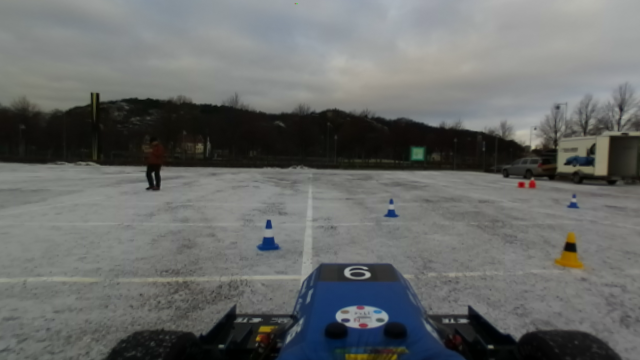blue: (255, 216, 281, 253), (383, 198, 399, 220)
yellow: (552, 231, 586, 269)
